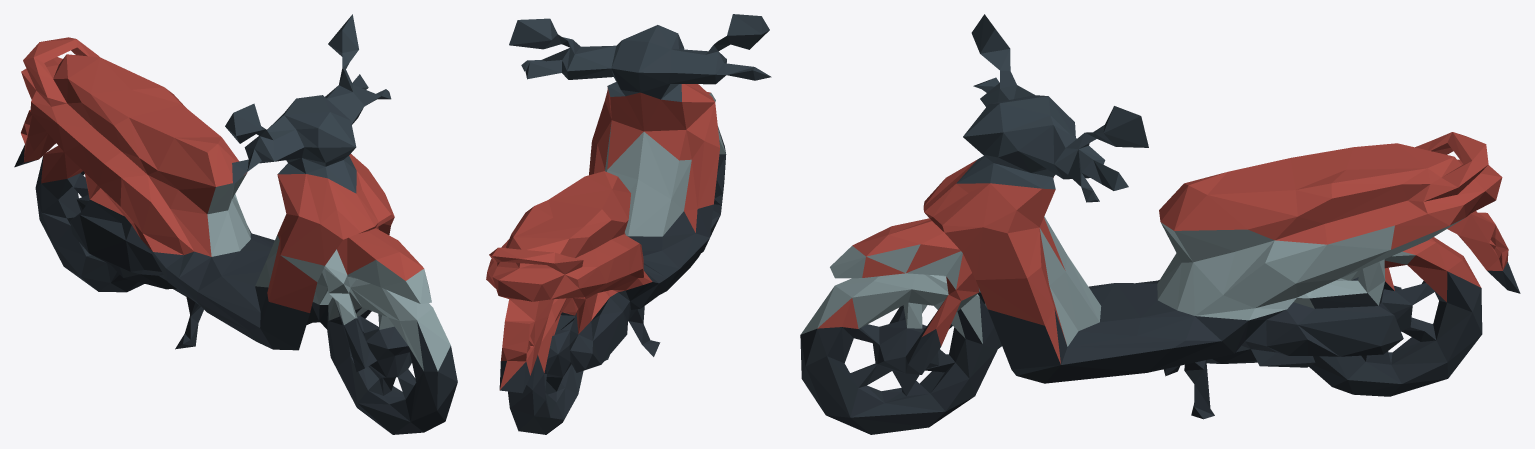
File: motorbike.glb
The picture shows the model from 3 angles, left to right: view 1: azimuth 30°, elevation 25°; view 2: azimuth 150°, elevation 25°; view 3: azimuth 270°, elevation 25°; orthographic projection. The views are drawn at different scales.
Visible parts, largest first — view 1: motorbike; view 2: motorbike; view 3: motorbike.
Boxes of the visible parts, x1,y1,x2,y2 form: motorbike: (14,14,457,434); motorbike: (486,14,771,434); motorbike: (800,14,1520,434).
Size of the model in its own units: 0.7 by 1 by 1.85.
